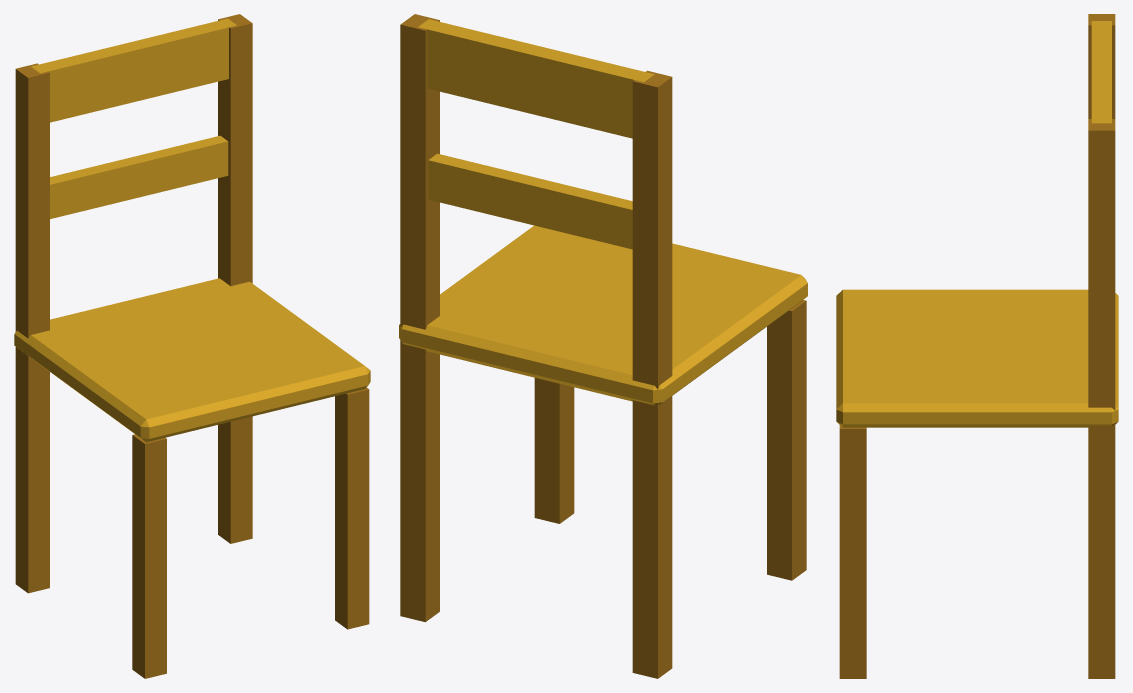
The model's file is chair_bar.glb.
The picture shows the model from 3 angles, left to right: view 1: azimuth 30°, elevation 25°; view 2: azimuth 150°, elevation 25°; view 3: azimuth 270°, elevation 25°; orthographic projection. The views are drawn at different scales.
Visible parts, largest first — view 1: chair_bar; view 2: chair_bar; view 3: chair_bar.
Part boxes in pixels (bbox=[...]): chair_bar: bbox=[14, 14, 370, 678]; chair_bar: bbox=[399, 14, 807, 678]; chair_bar: bbox=[836, 14, 1118, 678].
Size of the model in its own units: 0.42 by 0.9 by 0.42.
